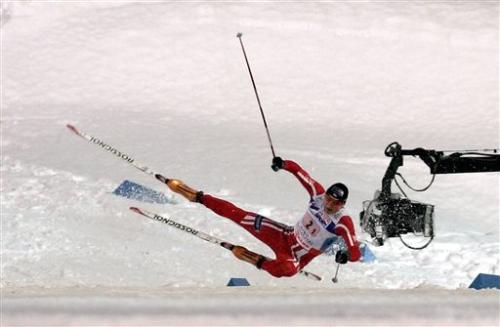fall: (145, 144, 370, 287)
